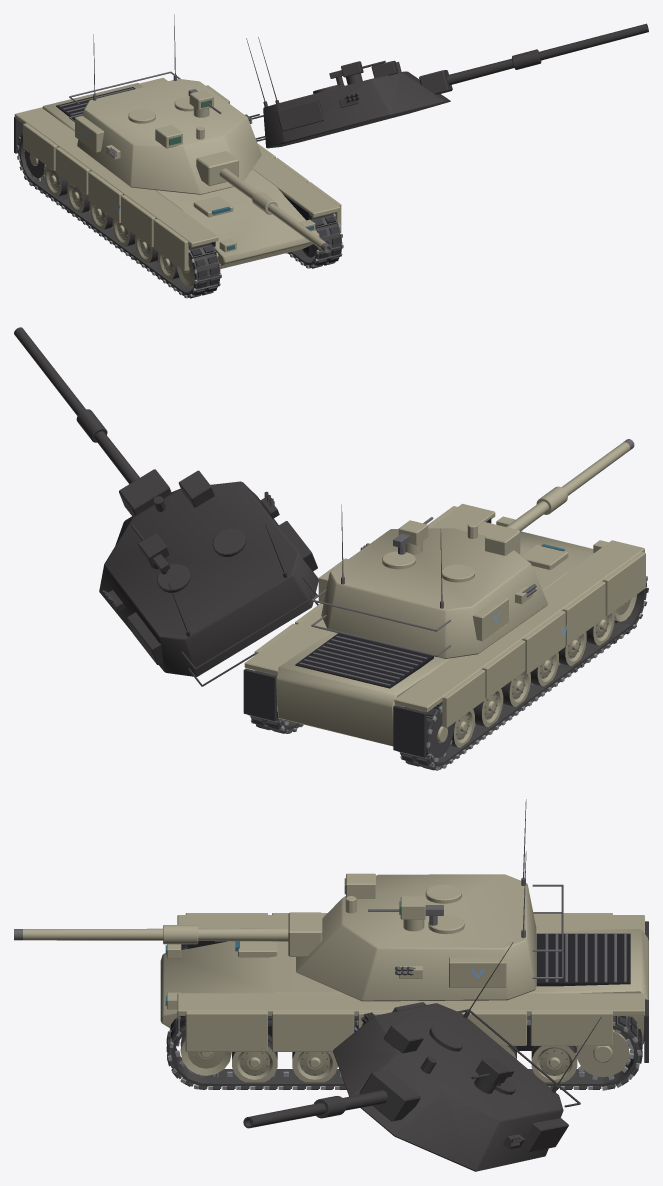
Rendered from tank__k1a2.glb.
The picture shows the model from 3 angles, top to bottom: view 1: azimuth 30°, elevation 25°; view 2: azimuth 150°, elevation 25°; view 3: azimuth 270°, elevation 25°; orthographic projection. The views are drawn at different scales.
Visible parts, largest first — view 1: Hull_Mesh, Turret_Mesh, Wreck, Track_L_Mesh, Gun_Mesh, Track_R_Mesh, CITV_Mesh, Gunner_Sight_Mesh, Wheel_L0_Mesh, Wheel_L1_Mesh; view 2: Wreck, Hull_Mesh, Turret_Mesh, Track_L_Mesh, Gun_Mesh, Gunner_Sight_Mesh, Sprocket_L_Mesh, Wheel_L1_Mesh, Wheel_L2_Mesh, CITV_Mesh; view 3: Hull_Mesh, Wreck, Turret_Mesh, Gun_Mesh, Track_R_Mesh, Sprocket_R_Mesh, Wheel_R0_Mesh, Wheel_R5_Mesh, Wheel_R4_Mesh, Idler_R_Mesh, CITV_Mesh, Gunner_Sight_Mesh (+2 smaller).
Part boxes in pixels (x1,y1,x2,y2): Hull_Mesh: (14, 77, 341, 270); Turret_Mesh: (69, 71, 261, 194); Wreck: (16, 23, 648, 297); Track_L_Mesh: (16, 132, 221, 298); Gun_Mesh: (196, 151, 331, 253); Track_R_Mesh: (286, 213, 343, 268); CITV_Mesh: (189, 90, 213, 117); Gunner_Sight_Mesh: (155, 125, 182, 148); Wheel_L0_Mesh: (44, 165, 68, 196); Wheel_L1_Mesh: (67, 182, 89, 213); Wreck: (14, 327, 648, 768); Hull_Mesh: (243, 503, 645, 757); Turret_Mesh: (311, 523, 547, 658); Track_L_Mesh: (398, 576, 648, 770); Gun_Mesh: (478, 439, 634, 553); Gunner_Sight_Mesh: (485, 527, 518, 555); Sprocket_L_Mesh: (430, 710, 454, 761); Wheel_L1_Mesh: (473, 689, 503, 727); Wheel_L2_Mesh: (501, 673, 530, 706); CITV_Mesh: (398, 520, 428, 554); Hull_Mesh: (160, 913, 648, 1062); Wreck: (167, 942, 641, 1171); Turret_Mesh: (296, 874, 563, 1001); Gun_Mesh: (14, 912, 322, 956); Track_R_Mesh: (166, 1016, 642, 1090); Sprocket_R_Mesh: (575, 1028, 633, 1080); Wheel_R0_Mesh: (531, 1046, 577, 1082); Wheel_R5_Mesh: (232, 1034, 277, 1082); Wheel_R4_Mesh: (292, 1052, 337, 1082); Idler_R_Mesh: (180, 1034, 231, 1075); CITV_Mesh: (399, 896, 425, 931); Gunner_Sight_Mesh: (344, 873, 375, 898).
Size of what is drawn, in the model's own units: 11.41 by 3.7 by 9.72.
